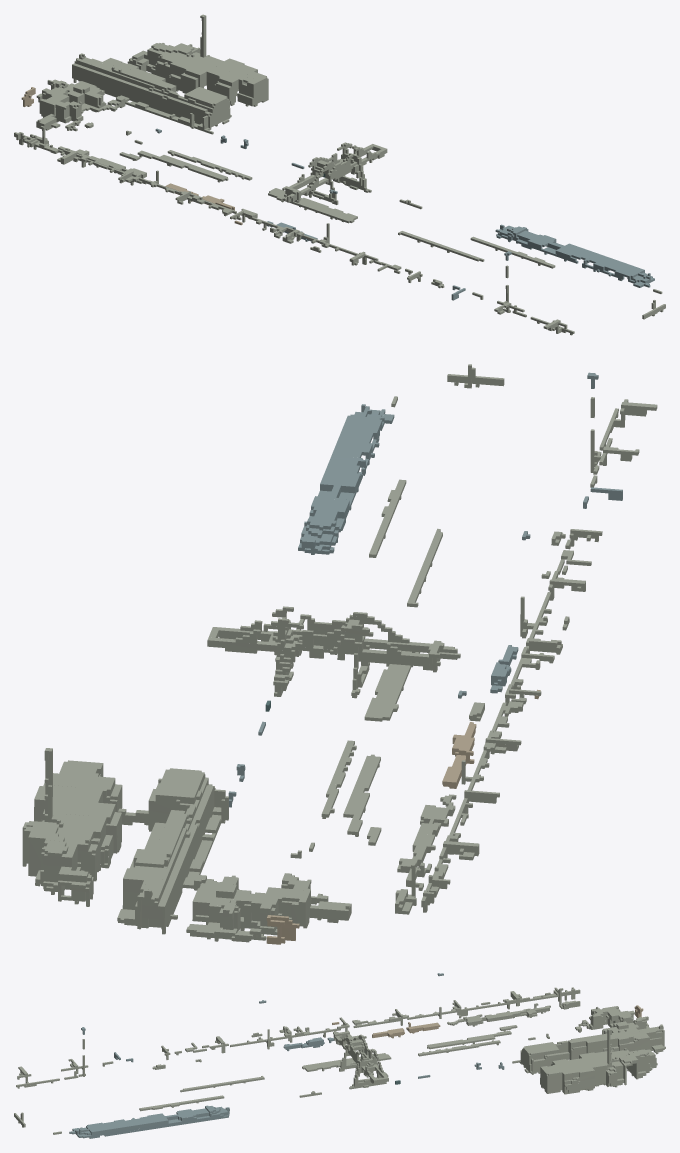
3 views of the same model, one above another, from view 1: azimuth 30°, elevation 25°; view 2: azimuth 150°, elevation 25°; view 3: azimuth 270°, elevation 25° (orthographic). The views are drawn at different scales.
Parts seen in each view (by area): view 1: measured-industrial; view 2: measured-industrial; view 3: measured-industrial.
Boxes of the visible parts, box(x1,y1,x2,y2) form: measured-industrial: box(14, 14, 665, 335); measured-industrial: box(22, 364, 657, 944); measured-industrial: box(14, 973, 665, 1138).
Size of the model in its own units: 278 by 54.14 by 548.
